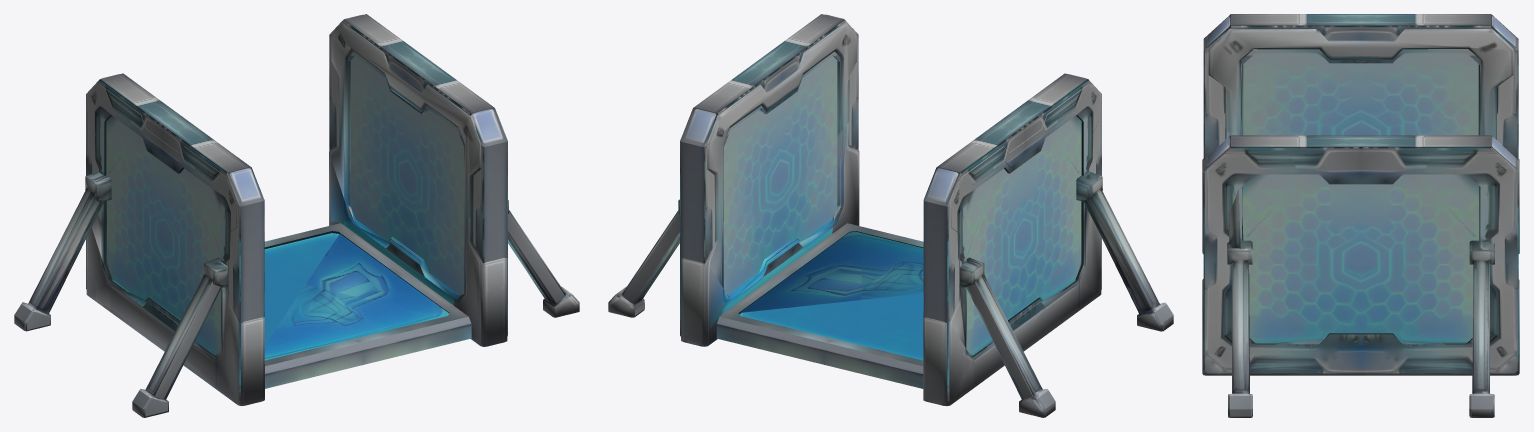
The model's file is healing_station.glb.
3 renders of one model, left to right at view 1: azimuth 30°, elevation 25°; view 2: azimuth 150°, elevation 25°; view 3: azimuth 270°, elevation 25°, orthographic. The views are drawn at different scales.
Parts seen in each view (by area): view 1: Cube, material; view 2: Cube, material; view 3: Cube, material.
Part boxes in pixels (x1,y1,x2,y2): Cube: [14, 14, 579, 416]; material: [14, 14, 579, 417]; Cube: [608, 14, 1173, 409]; material: [608, 14, 1173, 417]; Cube: [1203, 14, 1518, 416]; material: [1202, 16, 1519, 417].
Size of the model in its own units: 1.9 by 0.9309 by 1.17.
Materials: 1 (1 with a texture image).
